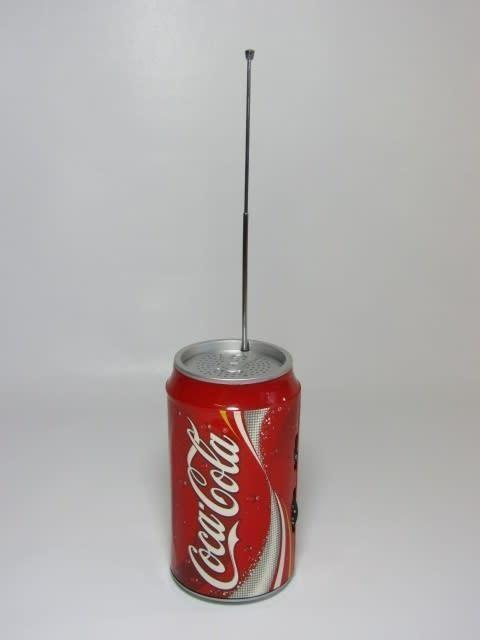tin can: (164, 336, 303, 604)
